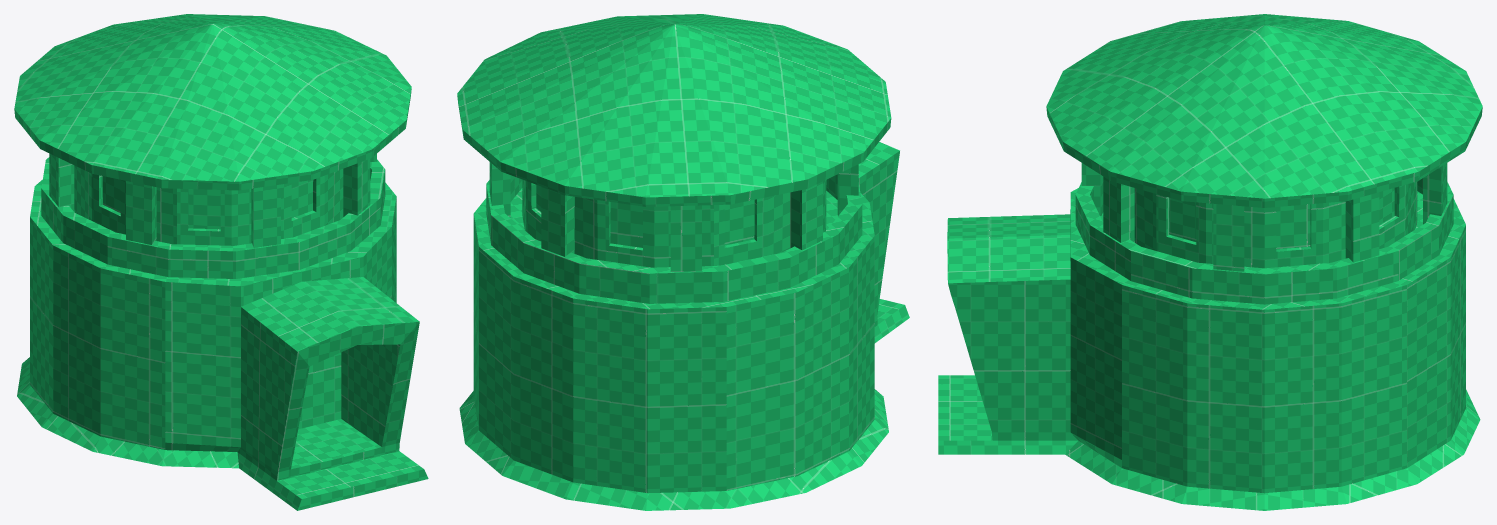
The model's file is SM_roundhouse.fbx.
3 renders of one model, left to right at view 1: azimuth 30°, elevation 25°; view 2: azimuth 150°, elevation 25°; view 3: azimuth 270°, elevation 25°, orthographic. The views are drawn at different scales.
Visible parts, largest first — view 1: Circle; view 2: Circle; view 3: Circle.
Boxes of the visible parts, left/top/right/bottom form: Circle: left=14, top=14, right=428, bottom=510; Circle: left=457, top=14, right=909, bottom=510; Circle: left=938, top=14, right=1482, bottom=510.
Bounding box in the file's own units: 803 × 800 × 1001.
